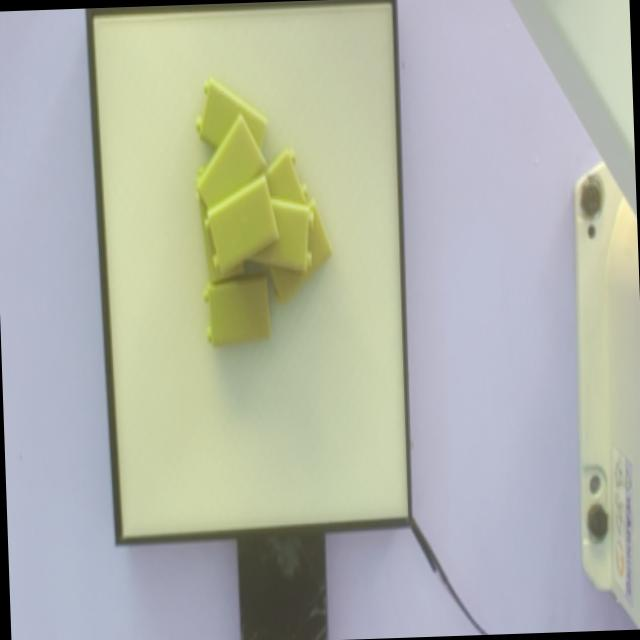bateria: (203, 174, 280, 275)
mesa: (85, 0, 413, 546)
